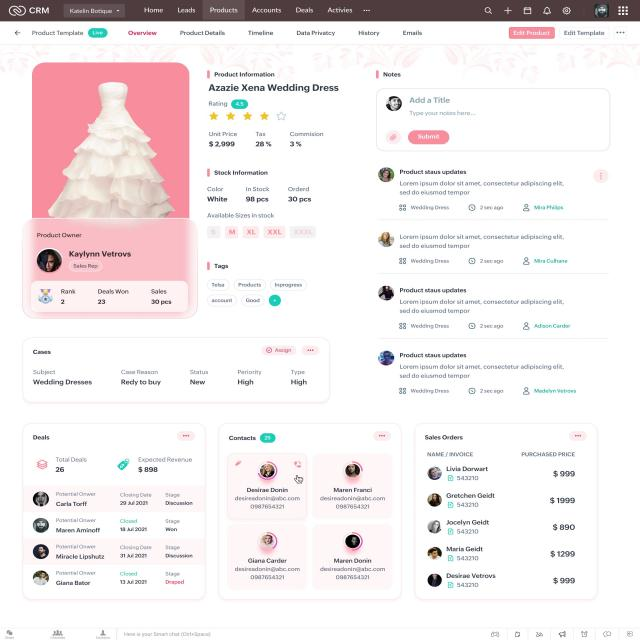button: (408, 129, 451, 145), (509, 27, 556, 39), (568, 429, 588, 443), (174, 431, 197, 441), (373, 430, 392, 440)
select: (62, 4, 126, 18)
